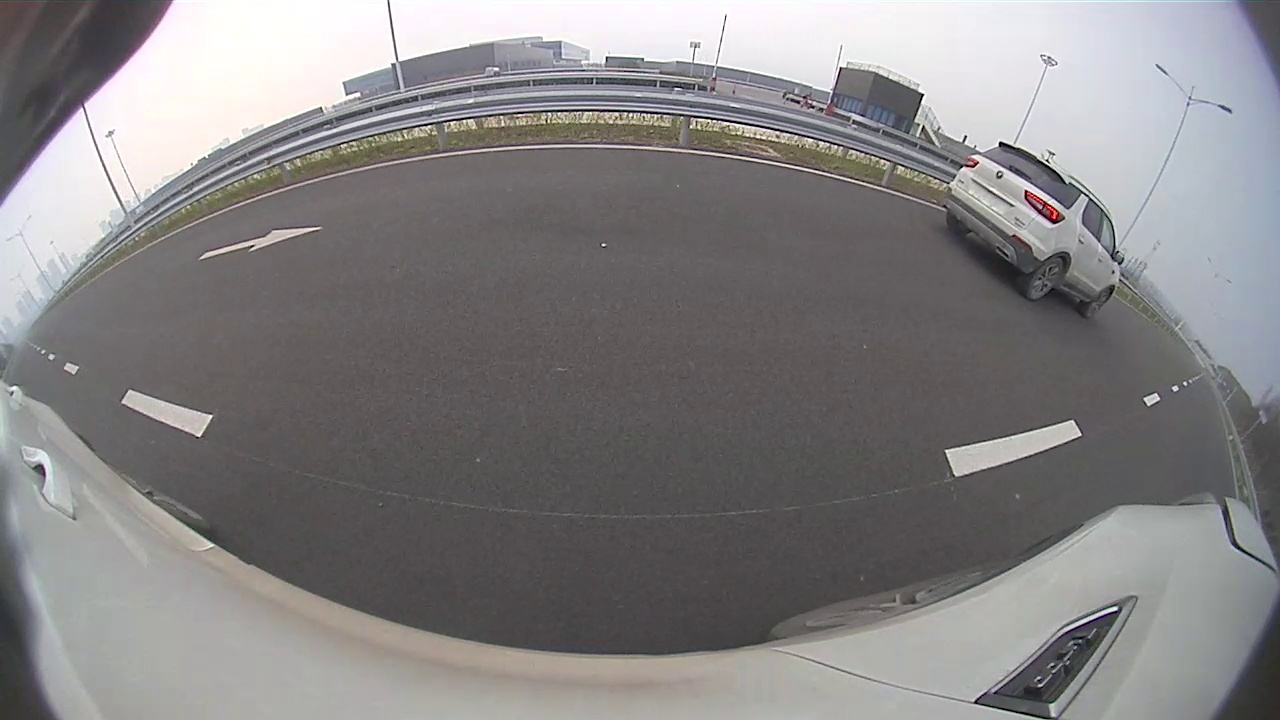car: (942, 141, 1126, 319)
rear: (1026, 253, 1068, 302)
